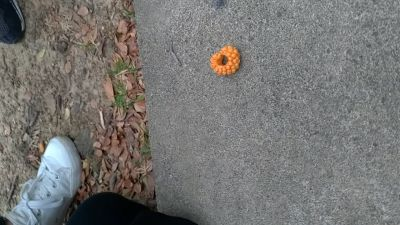eggs: (210, 44, 241, 75)
